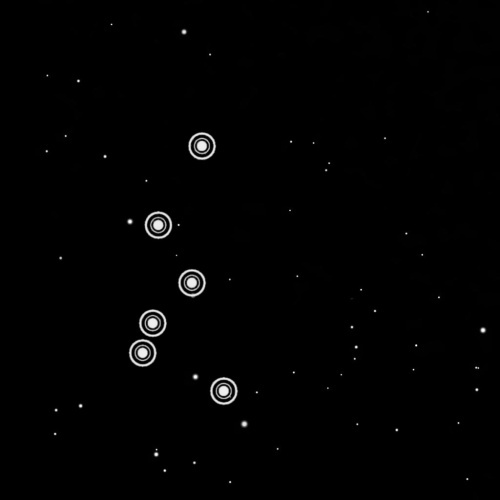cassiopeia: (122, 125, 242, 412)
